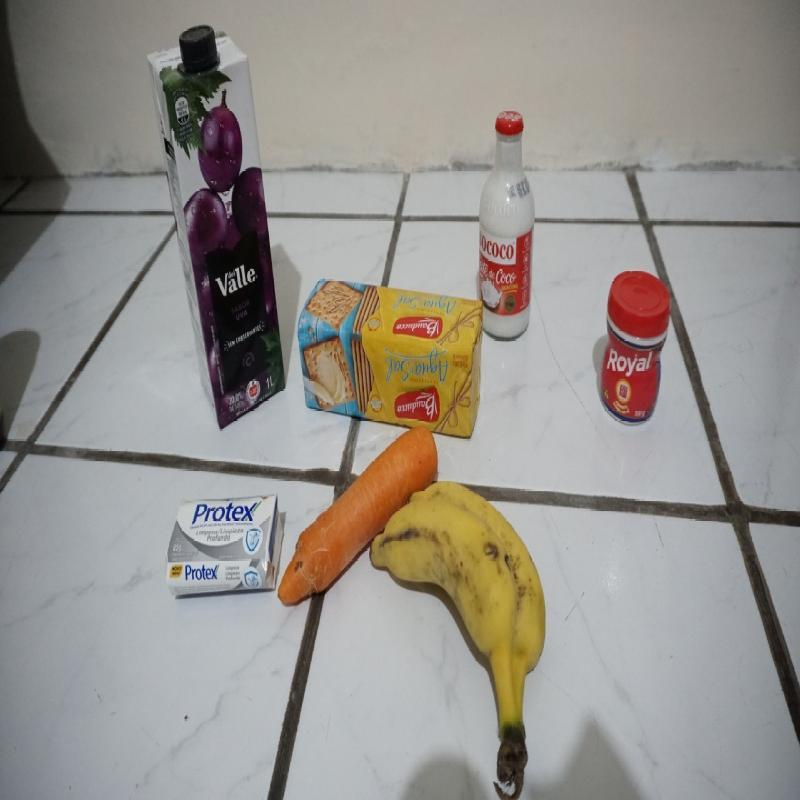Banana: (370, 481, 548, 796)
Carrot: (279, 425, 438, 604)
Coconut Milk: (479, 110, 536, 341)
Cracker: (298, 278, 484, 442)
Soap: (166, 493, 284, 598)
Yeast: (603, 270, 670, 426)
